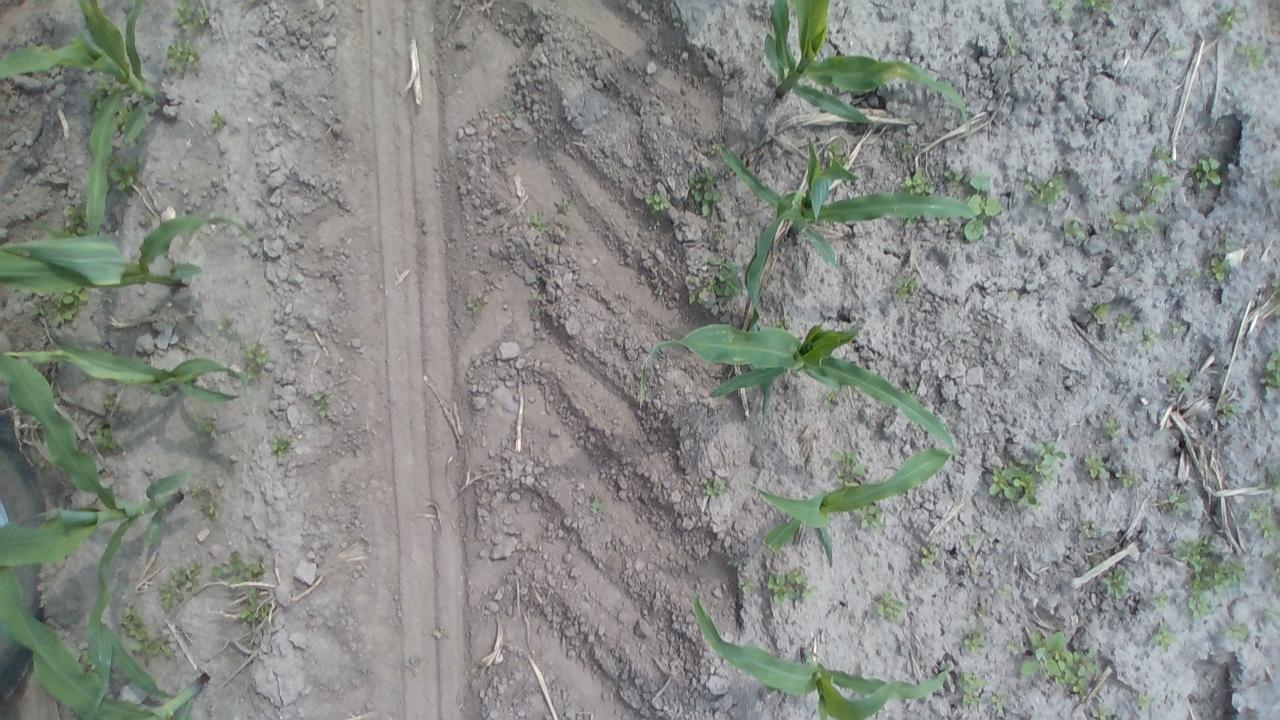Maize: (1, 334, 194, 709), (716, 133, 984, 327), (2, 0, 170, 240), (636, 322, 956, 446), (691, 590, 954, 720), (0, 568, 212, 720), (746, 432, 954, 567), (762, 0, 968, 133), (0, 212, 261, 295), (2, 338, 249, 404)
Weeds: (1019, 629, 1099, 698), (1170, 536, 1246, 592), (120, 606, 170, 662), (960, 173, 1000, 243), (986, 460, 1039, 506), (158, 562, 202, 610), (765, 564, 816, 604), (210, 550, 266, 586), (689, 166, 723, 218), (44, 288, 90, 326), (1021, 170, 1067, 207), (1034, 439, 1068, 487), (1138, 166, 1174, 208), (1188, 153, 1224, 192), (707, 258, 741, 298), (165, 38, 202, 74), (832, 449, 868, 486), (174, 0, 214, 33), (1249, 498, 1280, 539), (958, 668, 986, 712), (242, 338, 268, 384), (106, 157, 138, 192), (240, 587, 270, 624), (86, 78, 120, 110), (188, 485, 218, 520), (876, 590, 908, 622), (897, 170, 937, 195), (1184, 591, 1214, 621), (1102, 566, 1128, 600), (1260, 350, 1280, 394), (62, 201, 87, 236), (1080, 452, 1108, 483), (1236, 42, 1266, 70), (1148, 622, 1176, 652), (1205, 255, 1231, 287), (91, 422, 118, 452), (823, 139, 850, 168), (1257, 458, 1280, 492), (311, 389, 334, 423), (698, 476, 729, 501), (1164, 486, 1190, 515), (856, 502, 882, 530), (891, 274, 919, 300), (1215, 6, 1243, 31), (1106, 209, 1134, 234), (1076, 0, 1118, 16), (1058, 216, 1084, 241), (270, 431, 294, 458), (1168, 365, 1192, 392), (964, 626, 988, 653), (687, 274, 708, 304), (644, 190, 670, 214), (1134, 210, 1158, 236), (1086, 701, 1118, 720), (918, 543, 942, 567), (1224, 620, 1250, 642), (1138, 327, 1162, 349), (206, 110, 230, 132), (216, 316, 238, 340), (100, 393, 120, 419), (1103, 415, 1123, 441), (1113, 313, 1136, 335), (198, 414, 218, 439), (1048, 0, 1074, 19), (529, 212, 551, 234), (1152, 145, 1175, 166), (114, 106, 134, 130), (1135, 690, 1155, 714), (1118, 466, 1138, 489), (1217, 398, 1241, 417), (1004, 33, 1022, 58), (1263, 601, 1280, 626), (1089, 303, 1110, 323), (466, 294, 486, 315), (1267, 552, 1280, 584), (28, 295, 44, 320), (1168, 318, 1188, 338), (428, 624, 450, 642), (942, 168, 966, 184), (989, 692, 1008, 712), (1077, 520, 1098, 538), (1269, 280, 1280, 313), (1168, 39, 1187, 58), (896, 136, 914, 155), (1152, 590, 1170, 609), (823, 384, 841, 403), (79, 651, 96, 671), (588, 496, 606, 514), (1085, 552, 1102, 570), (738, 575, 754, 593), (900, 384, 919, 399), (1006, 638, 1022, 655), (1220, 236, 1236, 253), (962, 532, 978, 547), (554, 198, 571, 212), (900, 216, 920, 227), (775, 316, 791, 329), (532, 290, 540, 316), (558, 222, 571, 236), (1188, 266, 1202, 278), (1271, 176, 1280, 192), (975, 606, 987, 618), (996, 587, 1010, 597), (726, 559, 741, 567), (938, 217, 951, 226), (880, 472, 890, 482)
